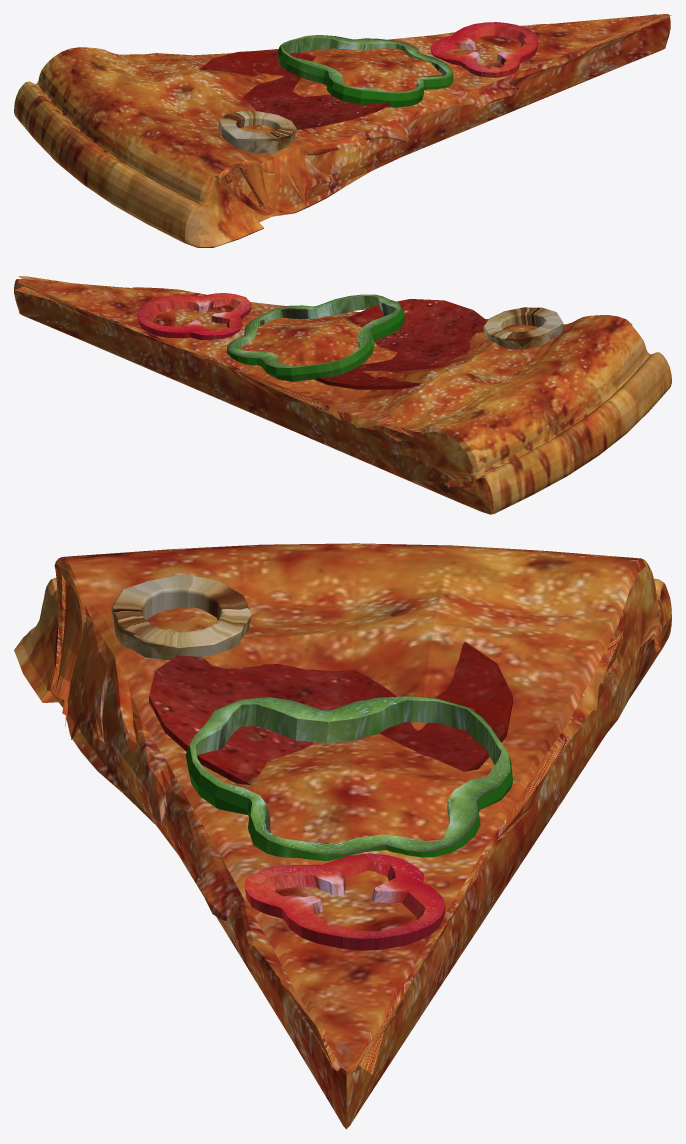
The picture shows the model from 3 angles, top to bottom: view 1: azimuth 30°, elevation 25°; view 2: azimuth 150°, elevation 25°; view 3: azimuth 270°, elevation 25°; orthographic projection. The views are drawn at different scales.
Visible parts, largest first — view 1: Object001_Pizza:archmodels76_023_01SG1_0, Object001_Pizza:archmodels76_023_02SG1_0; view 2: Object001_Pizza:archmodels76_023_01SG1_0, Object001_Pizza:archmodels76_023_02SG1_0; view 3: Object001_Pizza:archmodels76_023_01SG1_0, Object001_Pizza:archmodels76_023_02SG1_0.
Boxes of the visible parts, x1,y1,x2,y2 form: Object001_Pizza:archmodels76_023_01SG1_0: [14, 14, 671, 247]; Object001_Pizza:archmodels76_023_02SG1_0: [219, 111, 296, 153]; Object001_Pizza:archmodels76_023_01SG1_0: [14, 276, 671, 514]; Object001_Pizza:archmodels76_023_02SG1_0: [483, 307, 563, 349]; Object001_Pizza:archmodels76_023_01SG1_0: [14, 543, 671, 1129]; Object001_Pizza:archmodels76_023_02SG1_0: [111, 574, 251, 660].
Bounding box in the file's own units: 11.58 × 1.36 × 6.27.
Materials: 2 (2 with a texture image).
